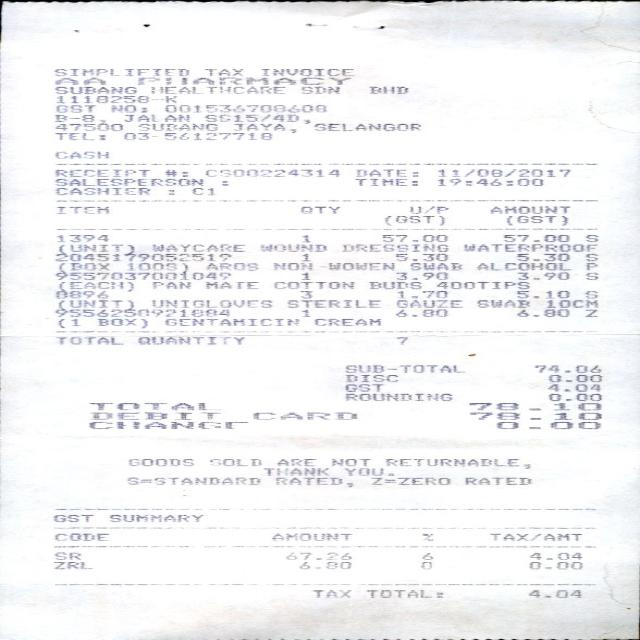text: (135, 76, 348, 84), (383, 458, 529, 468), (52, 253, 230, 261), (56, 272, 230, 280), (162, 104, 324, 112), (87, 421, 246, 429), (54, 309, 228, 316), (121, 132, 270, 140), (53, 68, 188, 76), (462, 243, 596, 251), (125, 476, 259, 484), (54, 178, 202, 185), (150, 299, 272, 307), (343, 364, 464, 372), (203, 114, 309, 123), (56, 95, 175, 103), (162, 318, 298, 325), (149, 86, 283, 93), (436, 169, 570, 176), (204, 169, 338, 176), (468, 403, 601, 410), (468, 412, 601, 419), (88, 412, 219, 419), (312, 123, 420, 131), (340, 243, 448, 251), (135, 336, 243, 344), (342, 393, 450, 401), (251, 411, 356, 419), (88, 402, 206, 409), (274, 477, 353, 487), (53, 168, 148, 176), (53, 187, 148, 195), (149, 243, 244, 251), (434, 280, 529, 288), (58, 280, 134, 290), (285, 299, 380, 307), (475, 262, 569, 270), (108, 514, 202, 522), (259, 68, 352, 76), (488, 532, 581, 540), (435, 178, 541, 185), (495, 421, 599, 428), (273, 280, 355, 288), (52, 335, 121, 344), (233, 123, 295, 133), (365, 589, 442, 597), (505, 215, 566, 225), (58, 244, 134, 252), (58, 300, 134, 308), (384, 215, 444, 225), (53, 86, 135, 93), (52, 123, 123, 131), (136, 123, 216, 130), (270, 533, 350, 540), (490, 206, 569, 213), (369, 477, 447, 484), (257, 243, 325, 251), (532, 364, 600, 372), (122, 113, 188, 121), (381, 234, 447, 242), (394, 299, 460, 307), (502, 234, 567, 242), (464, 476, 529, 484), (284, 551, 349, 559), (126, 262, 187, 270), (312, 318, 379, 325), (261, 468, 328, 475), (52, 76, 104, 85), (127, 458, 193, 465), (97, 318, 146, 327), (203, 262, 258, 270), (52, 532, 107, 540), (355, 169, 417, 176), (352, 178, 414, 185), (53, 150, 107, 158), (203, 281, 257, 289), (514, 290, 568, 298), (53, 290, 107, 298), (543, 299, 597, 307), (514, 308, 568, 316), (547, 393, 601, 401), (298, 561, 352, 569), (394, 253, 447, 261), (516, 253, 569, 261), (394, 272, 447, 280), (367, 280, 420, 288), (476, 299, 529, 307), (394, 308, 447, 316), (343, 374, 396, 382), (56, 206, 108, 214), (56, 263, 108, 271), (515, 272, 567, 280), (546, 383, 598, 391), (209, 458, 261, 466), (529, 552, 581, 560), (529, 561, 581, 569), (328, 263, 387, 270), (343, 468, 393, 476), (547, 374, 601, 381), (409, 263, 462, 270), (56, 235, 108, 242), (395, 290, 446, 297), (54, 133, 104, 140), (368, 85, 406, 94), (150, 281, 190, 289), (329, 458, 369, 466), (276, 458, 316, 466), (52, 560, 92, 568), (527, 590, 580, 596), (204, 68, 242, 76), (344, 383, 382, 391), (270, 263, 312, 270), (53, 105, 94, 112), (52, 514, 92, 521), (300, 86, 338, 93), (54, 114, 92, 121), (408, 206, 446, 213), (300, 206, 338, 213), (110, 105, 146, 112), (310, 590, 350, 596), (52, 551, 78, 559), (56, 318, 78, 327), (190, 187, 212, 195), (162, 169, 186, 176), (584, 234, 596, 242), (300, 290, 312, 298), (584, 290, 596, 298), (394, 336, 406, 344), (420, 533, 431, 541), (420, 552, 431, 560), (584, 253, 596, 260), (584, 263, 596, 270), (584, 272, 596, 279), (584, 309, 596, 316), (299, 308, 309, 316), (419, 561, 429, 568), (300, 234, 308, 242), (300, 272, 308, 280), (300, 253, 308, 260)
